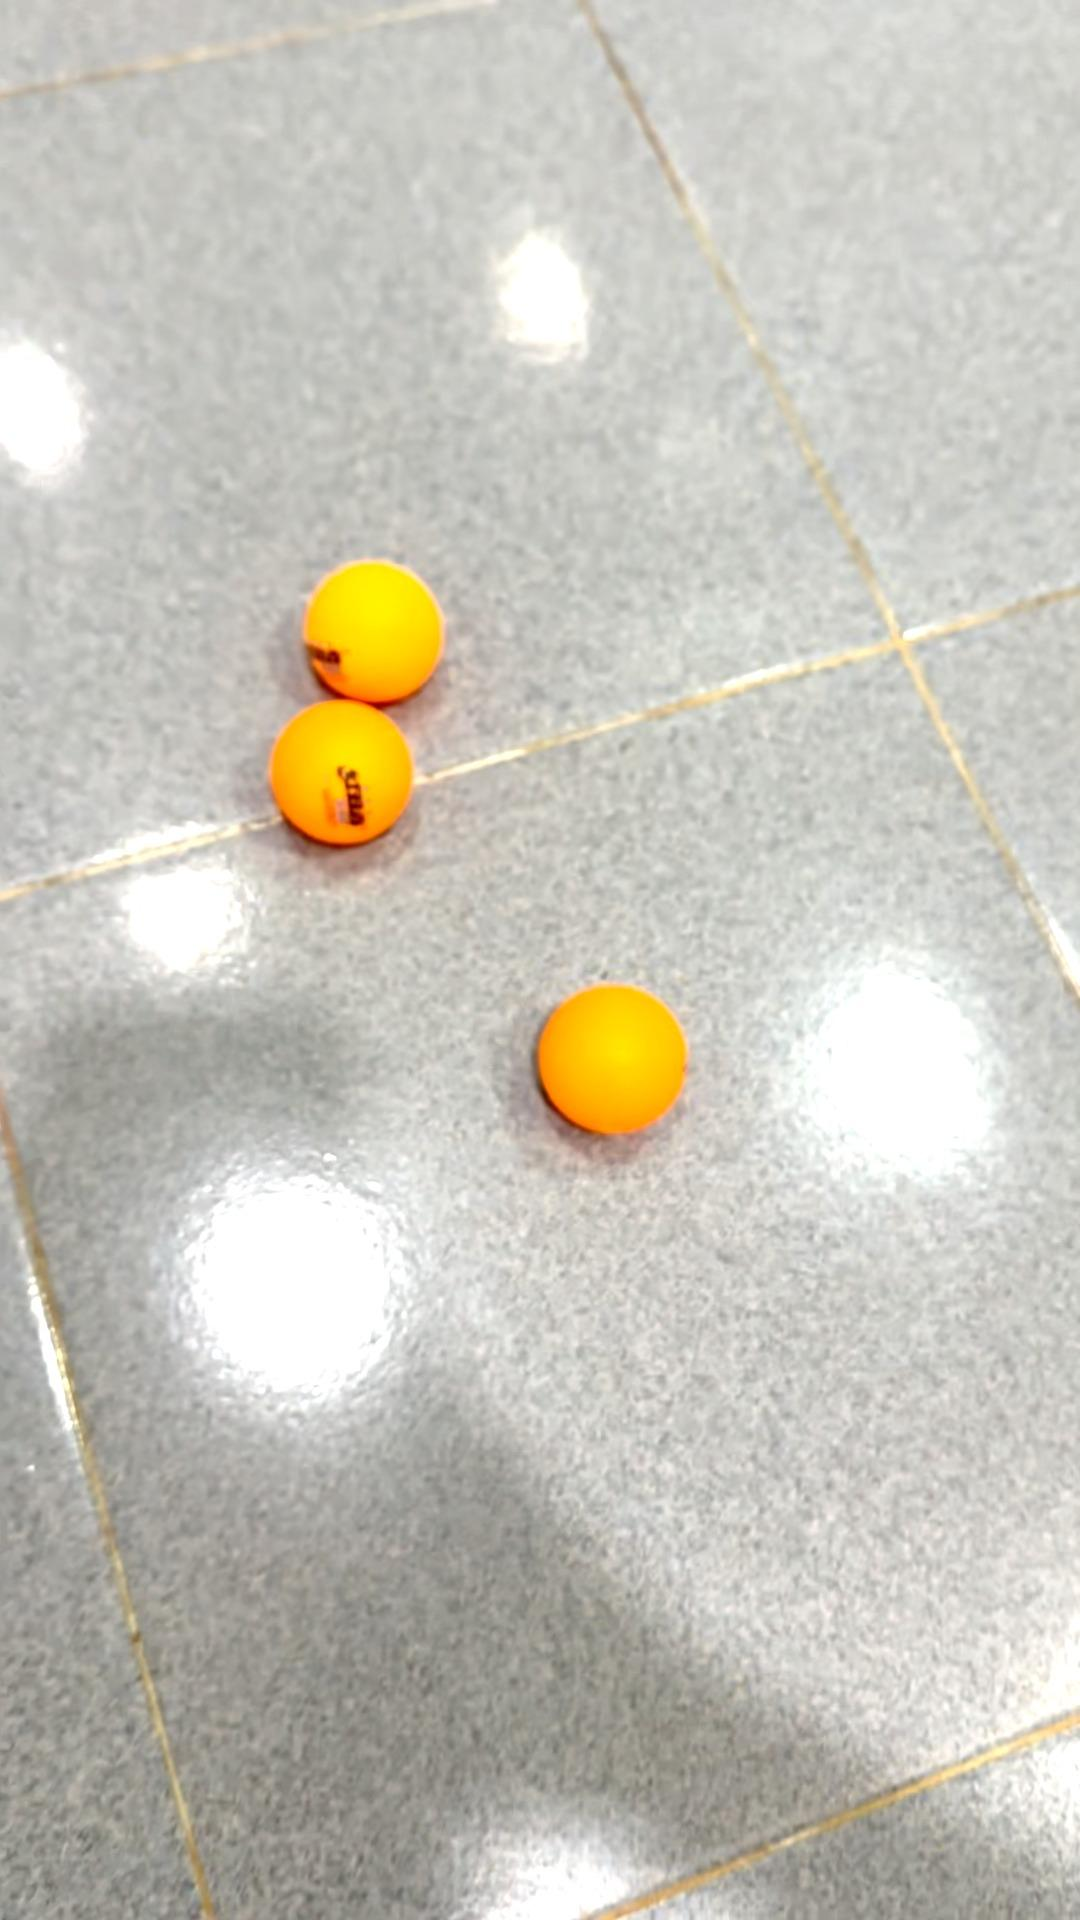oball: (538, 984, 704, 1146), (264, 704, 422, 851), (298, 554, 446, 707)
